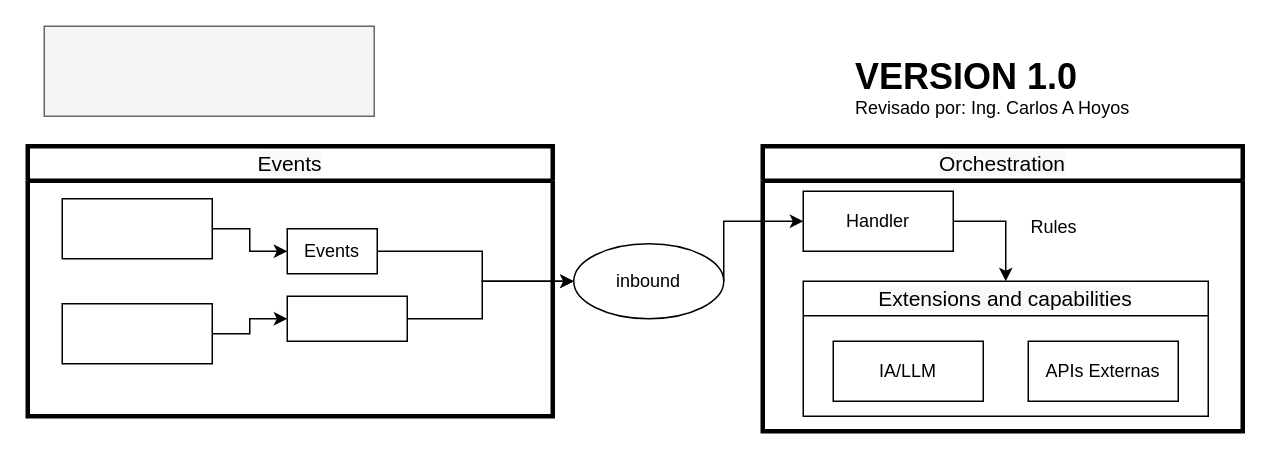
Some shapes in this 1271 by 459 pixel diagram are drawn without their labels. The centre of each missing label's shape, as x and y in pixels:
Power Automate: the point at 136,228
Punto único de entrada a n8n: the point at 208,70
Webhooks: the point at 346,318
WhatsApp_API: the point at 136,333
